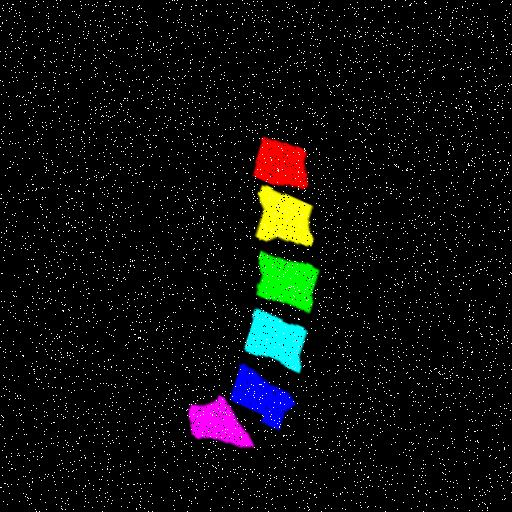L1: (249, 134, 304, 185)
L2: (250, 183, 309, 244)
L3: (249, 250, 312, 310)
L4: (237, 307, 299, 370)
L5: (222, 361, 287, 428)
S1: (179, 393, 243, 446)
